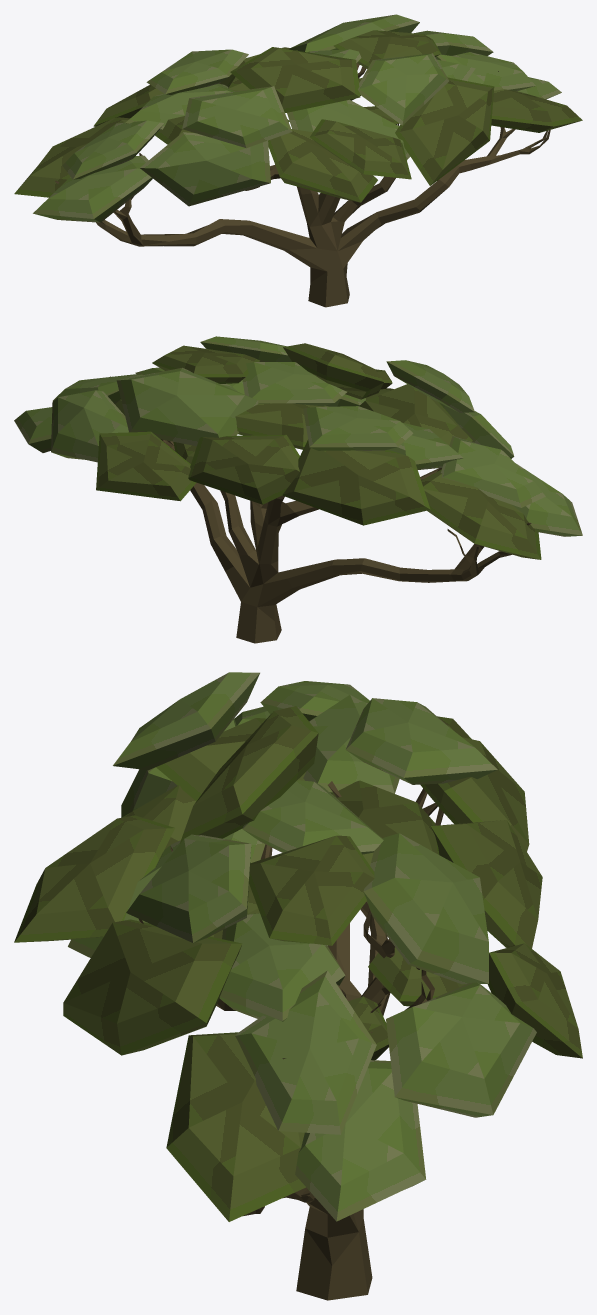
Rendered from LPTree_Tree_Type0_04_Model_balanced_instanced_l1.glb.
The picture shows the model from 3 angles, top to bottom: view 1: azimuth 30°, elevation 25°; view 2: azimuth 150°, elevation 25°; view 3: azimuth 270°, elevation 25°; orthographic projection. The views are drawn at different scales.
Visible parts, largest first — view 1: Tree Type0 04 Model; view 2: Tree Type0 04 Model; view 3: Tree Type0 04 Model.
Part boxes in pixels (bbox=[...]): Tree Type0 04 Model: bbox=[14, 14, 582, 307]; Tree Type0 04 Model: bbox=[14, 336, 582, 643]; Tree Type0 04 Model: bbox=[14, 672, 582, 1300].
Size of the model in its own units: 7.72 by 3.76 by 3.85.
Materials: 1 (1 with a texture image).
